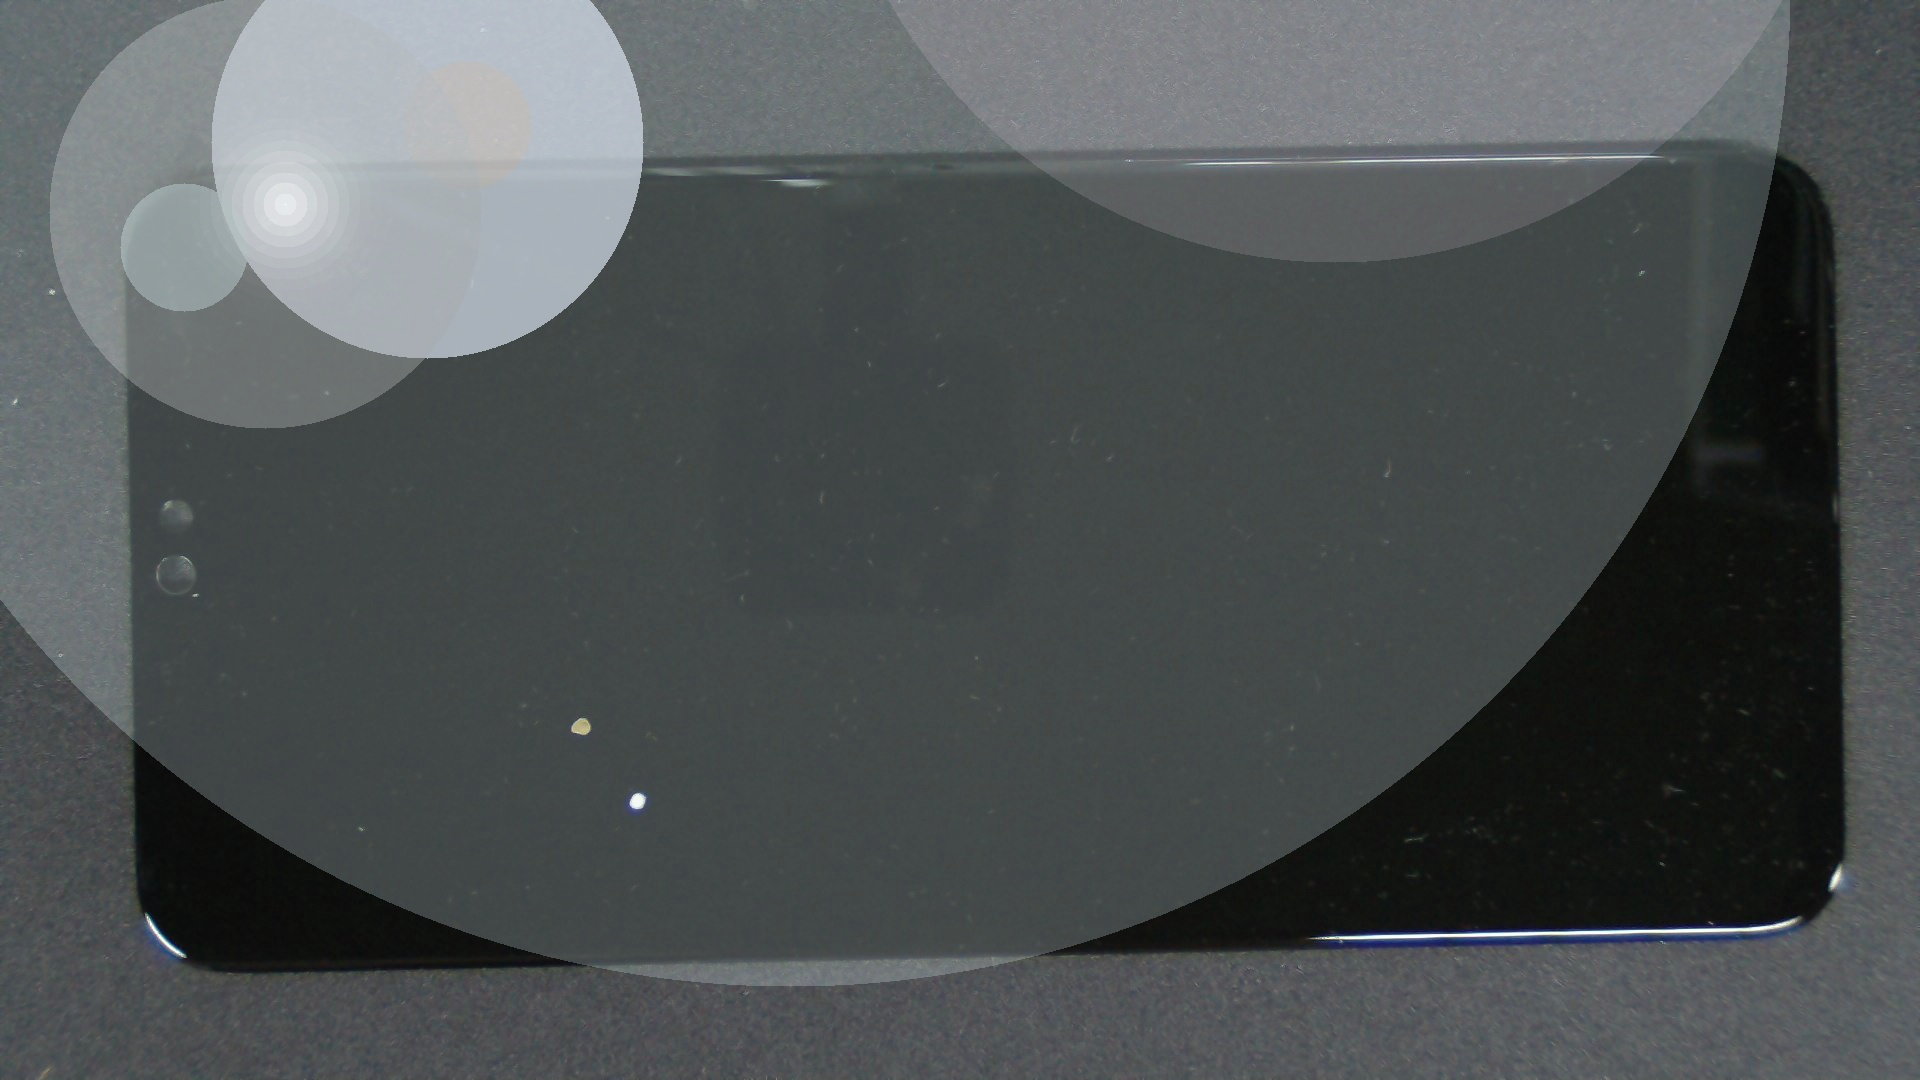oil: (319, 396, 953, 1080), (290, 357, 868, 1076)
